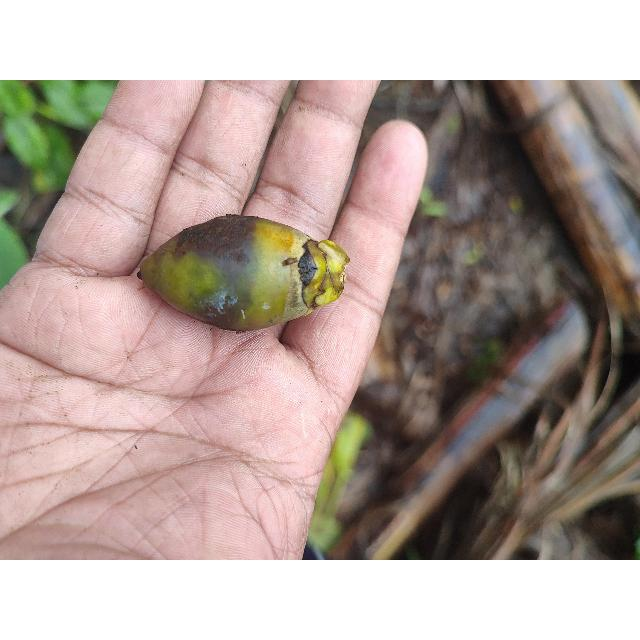damaged: (138, 215, 349, 331)
